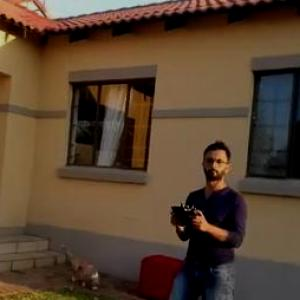follow: (145, 134, 255, 298)
null: (56, 238, 105, 293)
